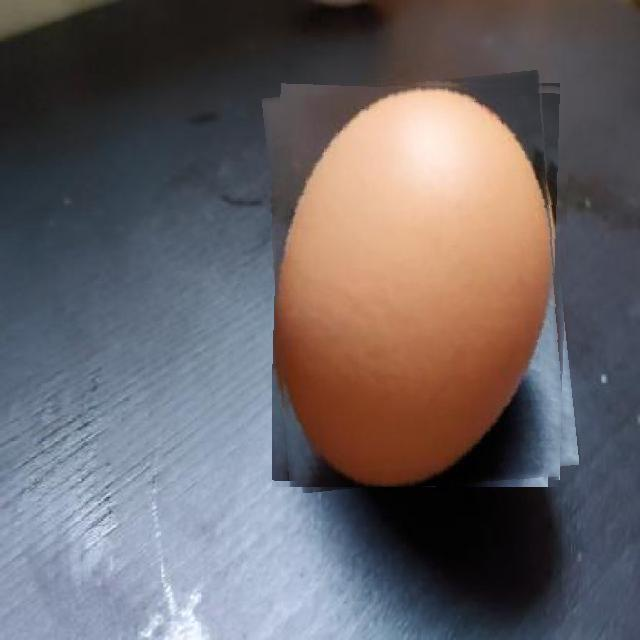biodegradable: (272, 76, 571, 487)
